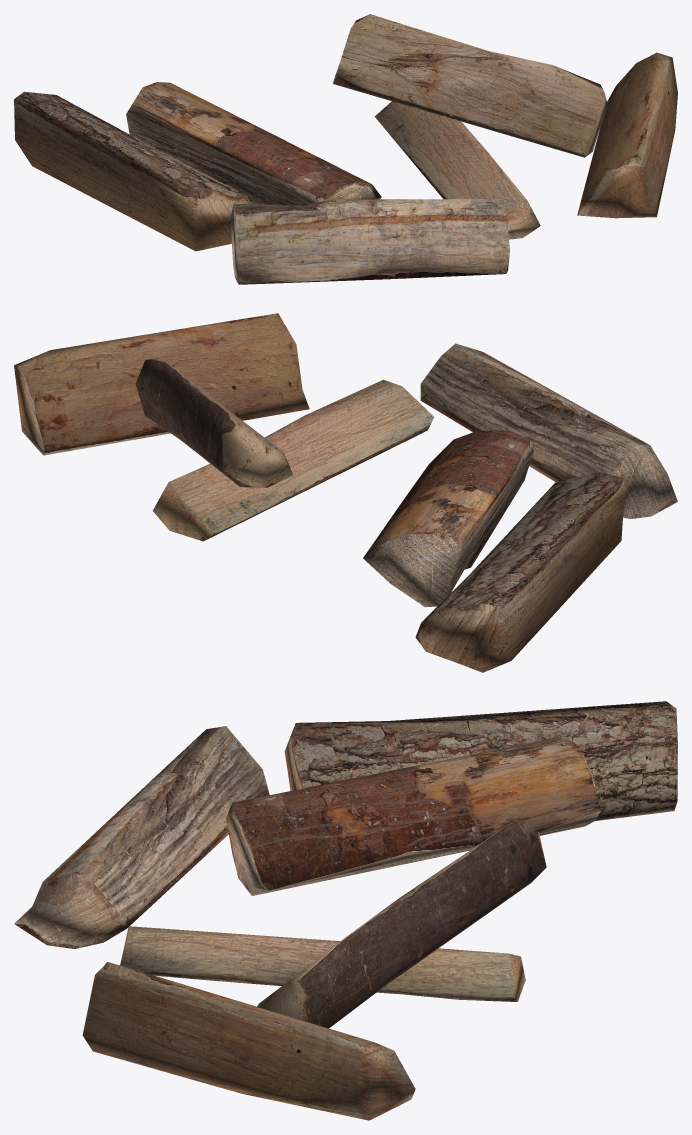
The model's file is Lumber6.fbx.
3 views of the same model, one above another, from view 1: azimuth 30°, elevation 25°; view 2: azimuth 150°, elevation 25°; view 3: azimuth 270°, elevation 25° (orthographic). The views are drawn at different scales.
Visible parts, largest first — view 1: polySurface169; view 2: polySurface169; view 3: polySurface169.
Part boxes in pixels (box(x1,y1,x2,y2)): polySurface169: box(14, 14, 677, 284); polySurface169: box(14, 313, 677, 672); polySurface169: box(14, 701, 677, 1120).
Bounding box in the file's own units: 149 × 30.74 × 121.
